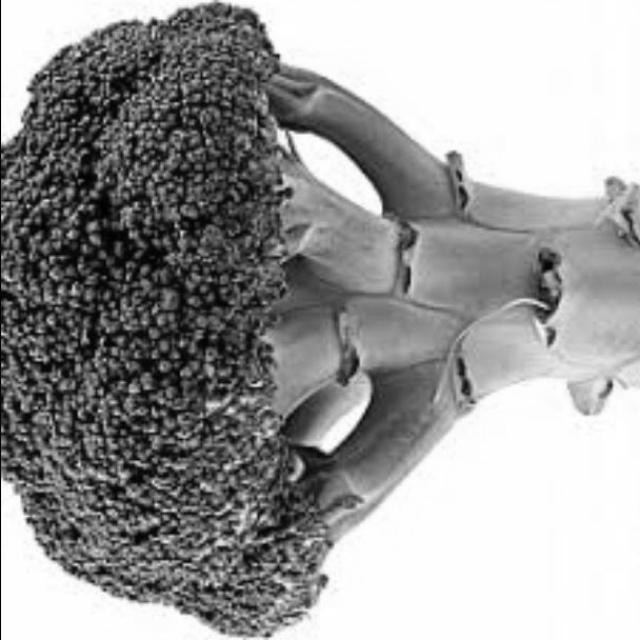bong cai xanh: (3, 0, 637, 640)
